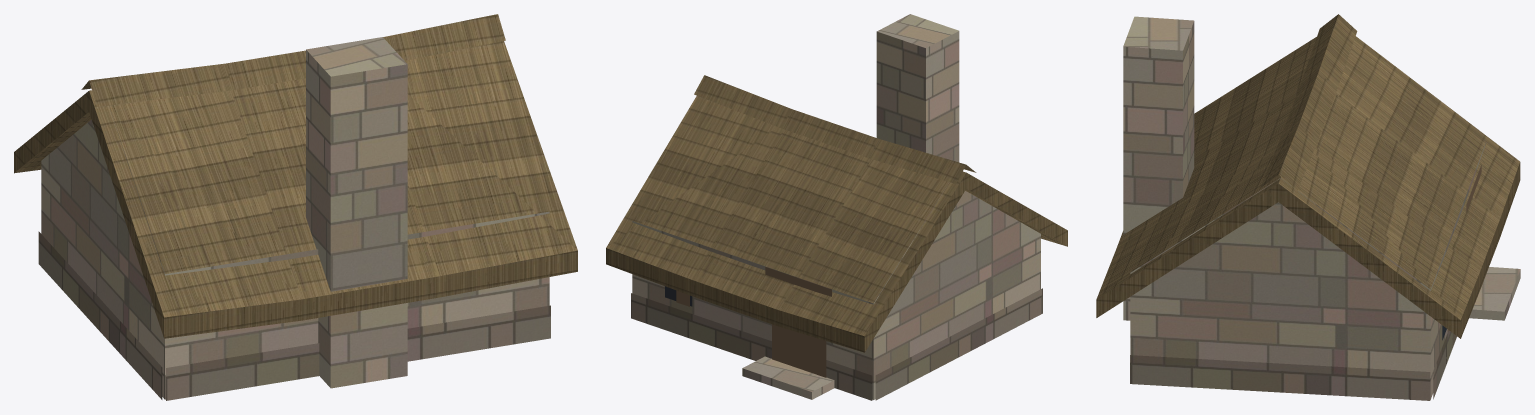
The picture shows the model from 3 angles, left to right: view 1: azimuth 30°, elevation 25°; view 2: azimuth 150°, elevation 25°; view 3: azimuth 270°, elevation 25°; orthographic projection. The views are drawn at different scales.
Parts seen in each view (by area): view 1: b001083_thatch, b001083_wall, b001083_base; view 2: b001083_thatch, b001083_wall, b001083_base, b001083_oak; view 3: b001083_thatch, b001083_wall, b001083_base.
Boxes of the visible parts, box(x1,y1,x2,y2) form: b001083_thatch: box(14, 14, 577, 338); b001083_wall: box(41, 37, 549, 399); b001083_base: box(38, 231, 550, 400); b001083_thatch: box(606, 75, 1067, 352); b001083_wall: box(632, 14, 1040, 399); b001083_base: box(631, 288, 1042, 400); b001083_oak: box(676, 267, 831, 377); b001083_thatch: box(1096, 14, 1520, 338); b001083_wall: box(1123, 16, 1520, 399); b001083_base: box(1130, 330, 1456, 400).
Size of the model in its own units: 5.69 by 3.97 by 5.58.
Materials: 5 (3 with a texture image).
